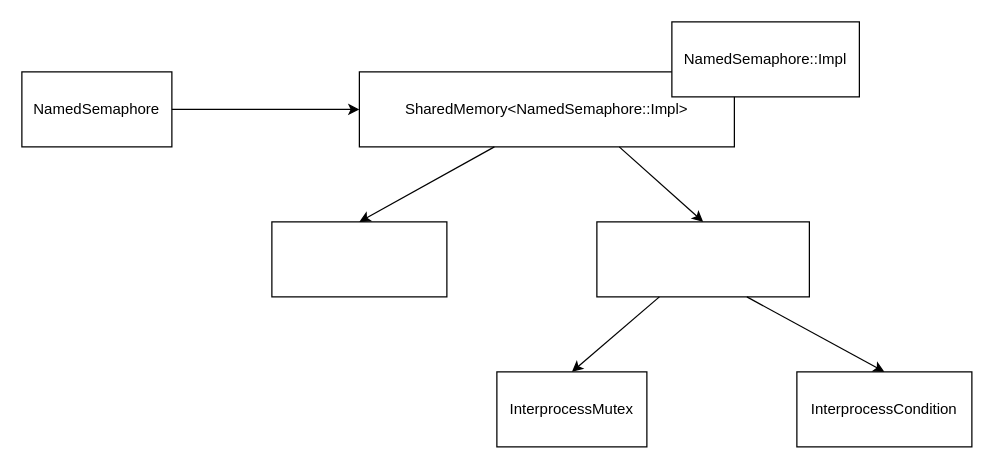
Image size: 994x469. Some labels were removed from this diagram. Here are the shapes that lost their labels. From the top down, the box of each, then its label:
(271, 221, 447, 297): InterprocessOnceFlag
(596, 221, 809, 297): InterprocessSemaphore
